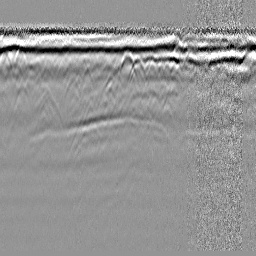cavity: (115, 49, 140, 90)
